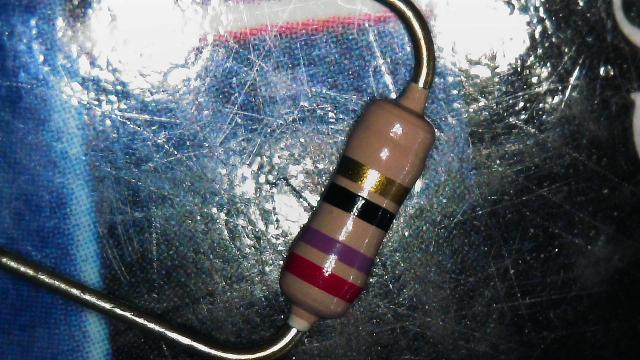black: (322, 182, 395, 231)
gold: (335, 154, 410, 206)
red: (284, 251, 362, 302)
resistor: (243, 75, 458, 336)
violet: (298, 225, 374, 274)
